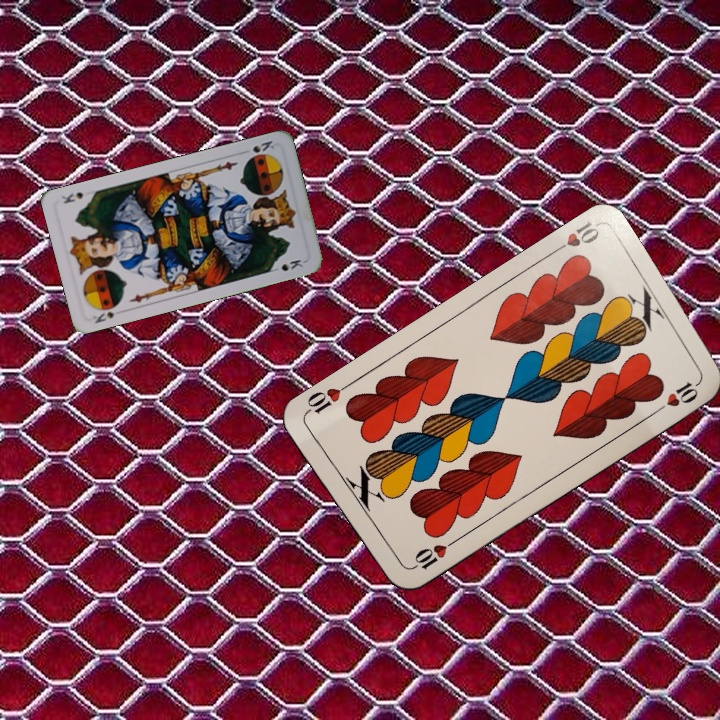H10: (547, 217, 602, 257), (404, 536, 458, 573)
SK: (238, 136, 277, 156), (89, 306, 126, 326)
